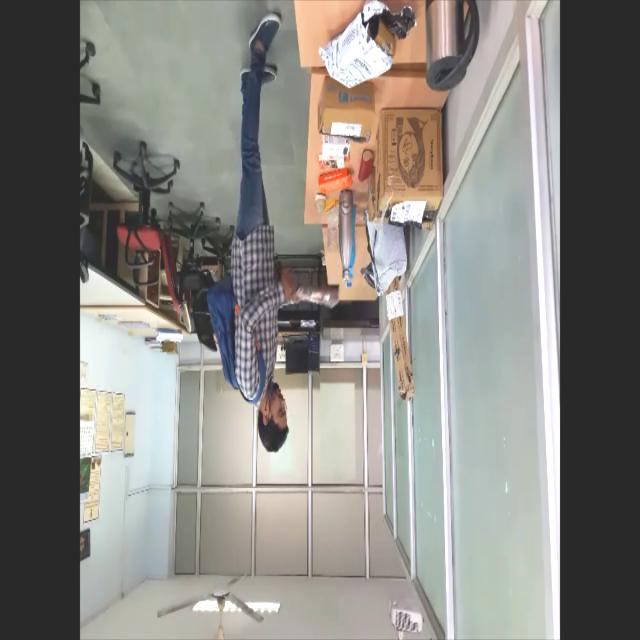normal: (210, 0, 303, 463)
